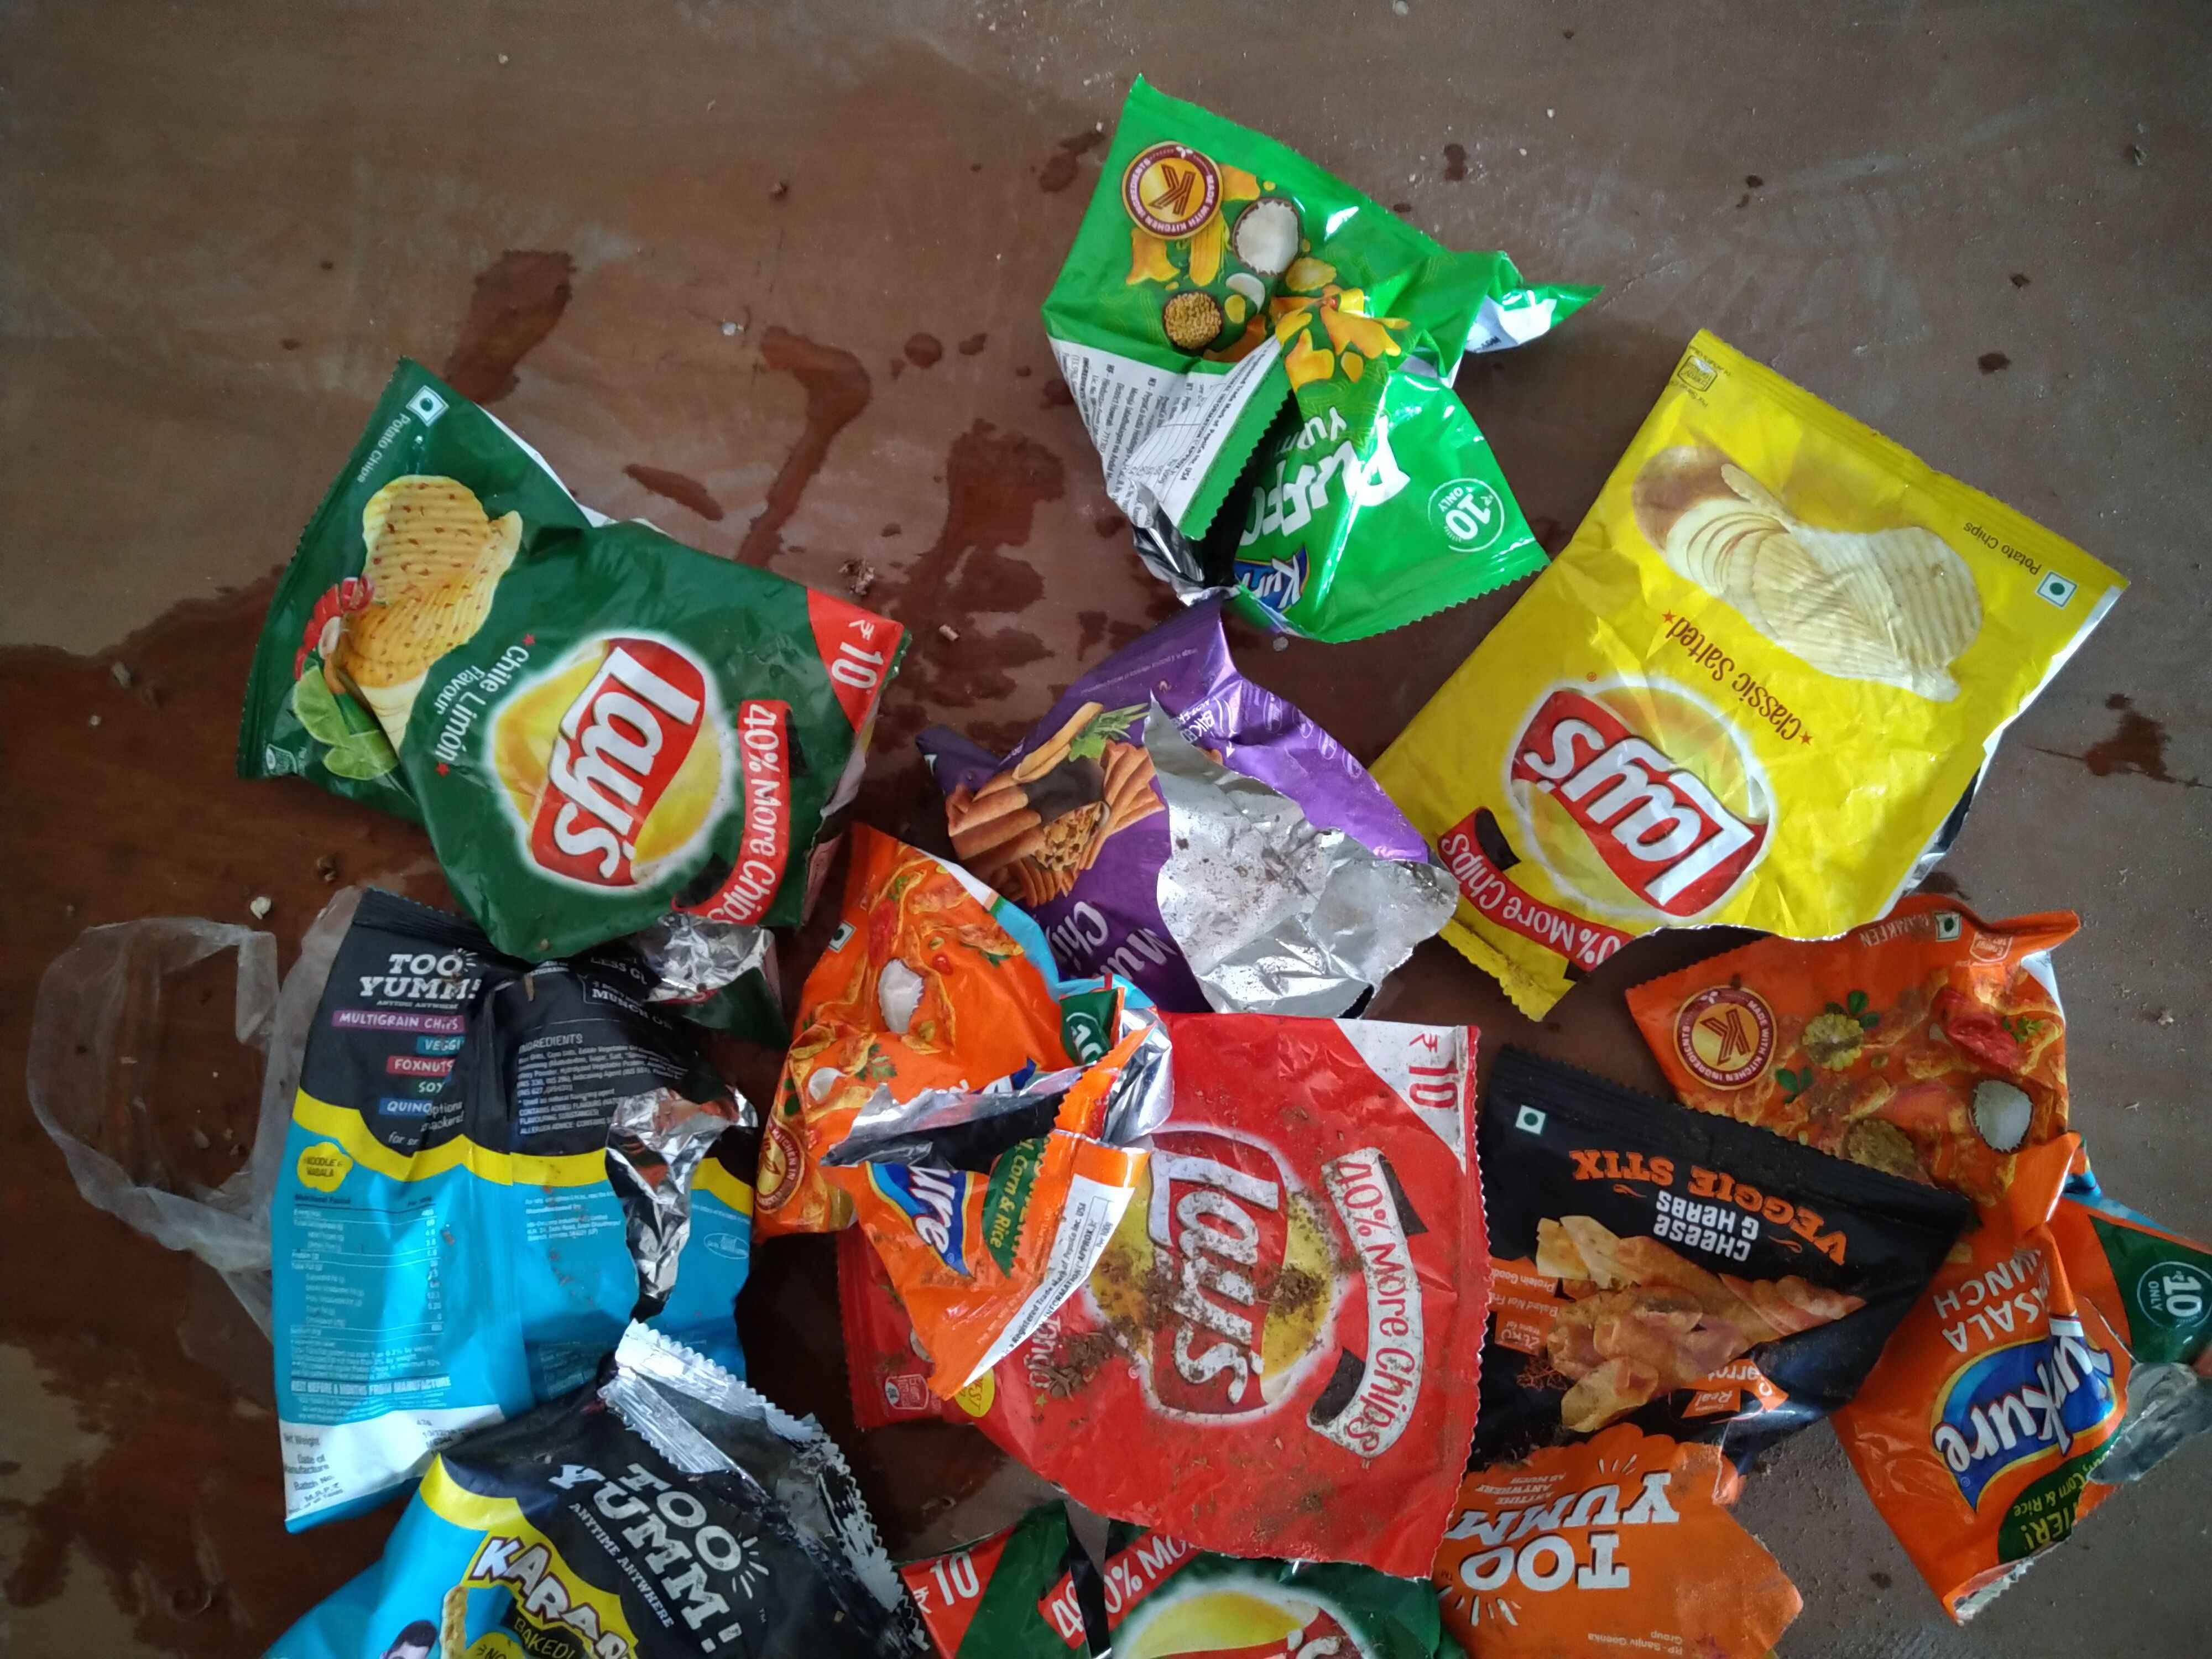Lays: (1503, 652, 1815, 936), (458, 617, 749, 901), (1122, 1110, 1367, 1429), (1061, 1595, 1367, 1659)
kurkure: (1939, 1288, 2118, 1521), (869, 1075, 981, 1281), (1216, 532, 1345, 640)
tooyumm: (557, 1417, 789, 1657), (1447, 1480, 1717, 1600), (348, 946, 498, 1011)
